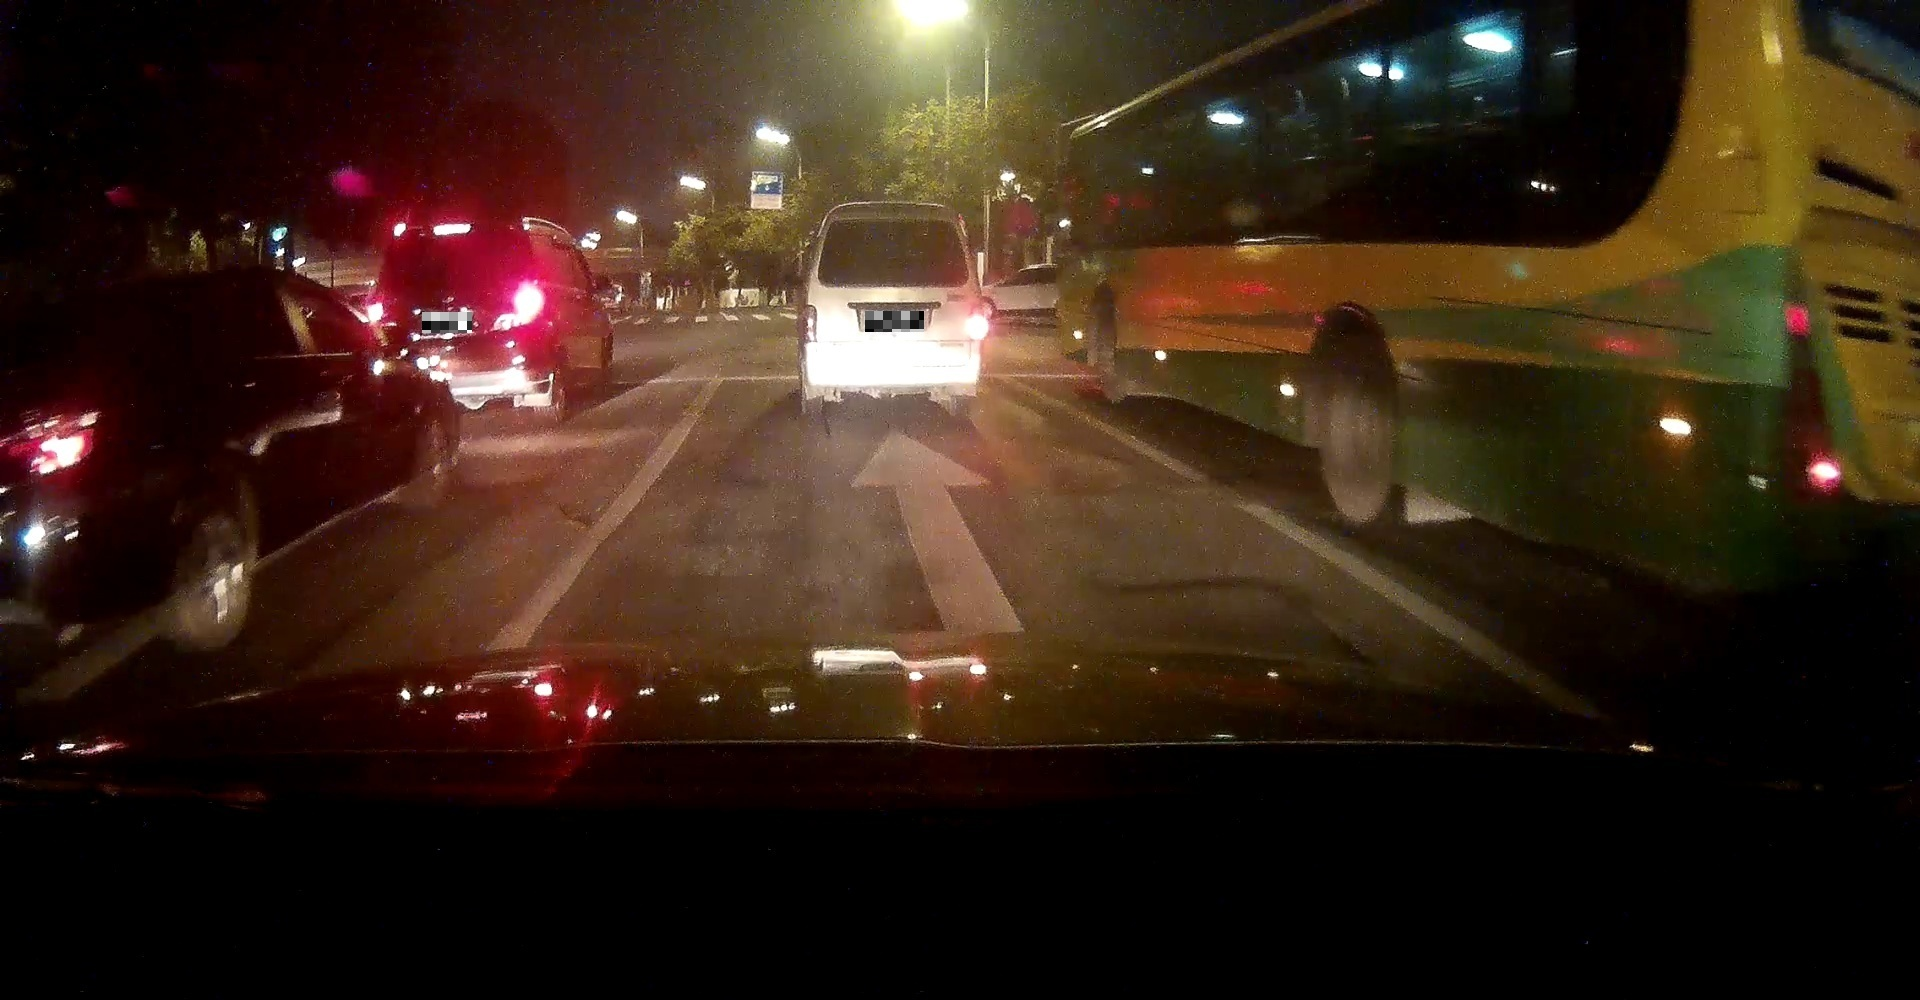L_light: (364, 296, 391, 321), (801, 305, 815, 341)
R_light: (512, 286, 543, 313), (968, 303, 982, 338)
T_light: (432, 222, 470, 236), (877, 220, 912, 226)
night-no: (363, 212, 551, 421)
night-right: (800, 201, 987, 418)
plate_1: (422, 312, 472, 332)
plate_2: (865, 311, 924, 332)
